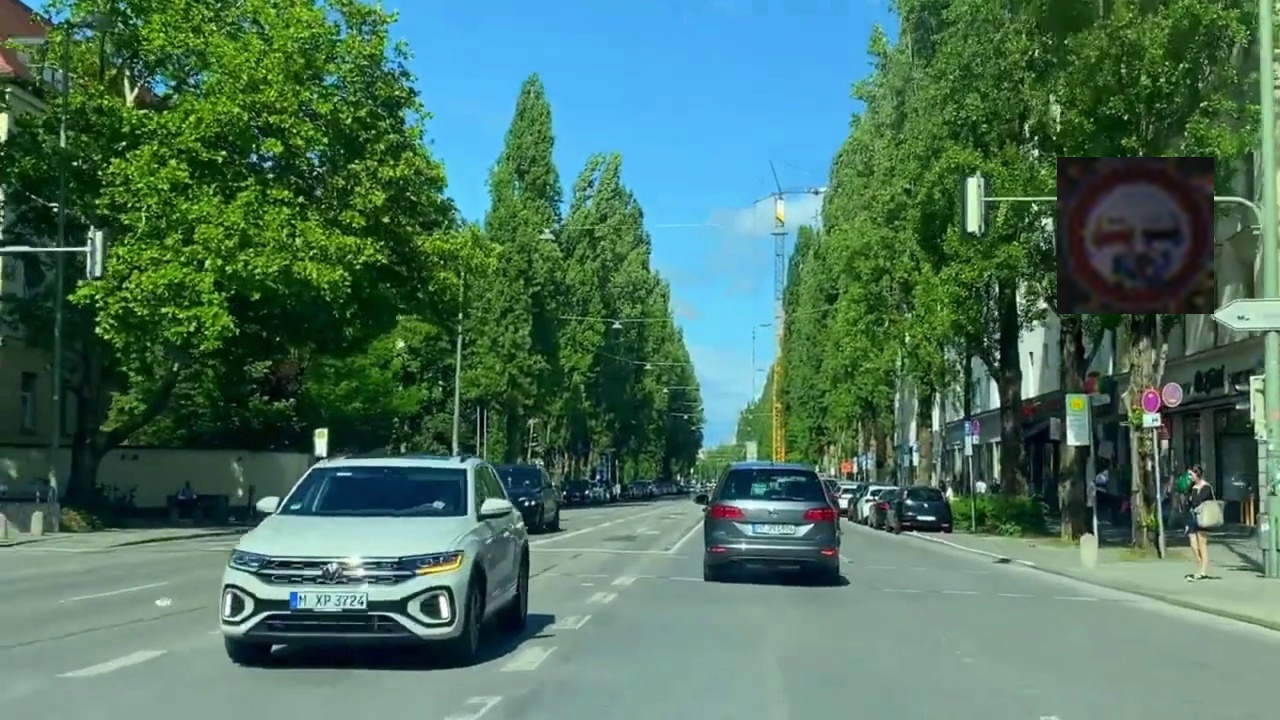No passing: (1057, 157, 1214, 314)
